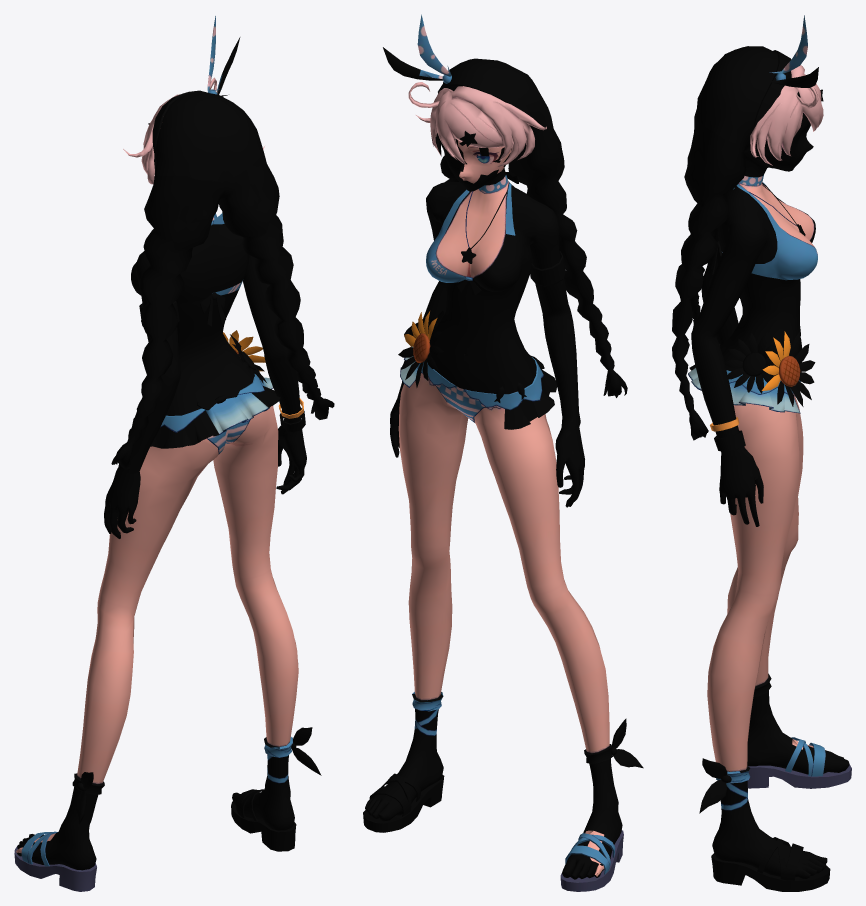
The model's file is stargirl.glb.
The picture shows the model from 3 angles, left to right: view 1: azimuth 30°, elevation 25°; view 2: azimuth 150°, elevation 25°; view 3: azimuth 270°, elevation 25°; orthographic projection. The views are drawn at different scales.
Visible parts, largest first — view 1: Object_122.001, Object_132.001, Object_124.001, Object_126.001, Object_134.001, Object_128.001; view 2: Object_122.001, Object_132.001, Object_124.001, Object_134.001, Object_130.001, Object_128.001, Object_126.001; view 3: Object_122.001, Object_132.001, Object_124.001, Object_128.001, Object_134.001, Object_126.001, Object_130.001.
Part boxes in pixels (x1,y1,x2,y2): Object_122.001: [16, 223, 306, 870]; Object_132.001: [111, 77, 334, 469]; Object_124.001: [14, 213, 321, 891]; Object_126.001: [150, 377, 280, 448]; Object_134.001: [148, 16, 240, 154]; Object_128.001: [223, 330, 303, 418]; Object_122.001: [365, 168, 622, 879]; Object_132.001: [404, 58, 627, 397]; Object_124.001: [363, 172, 643, 891]; Object_134.001: [383, 14, 530, 146]; Object_130.001: [440, 139, 526, 191]; Object_128.001: [398, 247, 476, 387]; Object_126.001: [400, 346, 557, 429]; Object_122.001: [691, 150, 849, 878]; Object_132.001: [672, 46, 823, 440]; Object_124.001: [699, 175, 851, 891]; Object_128.001: [710, 224, 815, 431]; Object_134.001: [753, 15, 823, 125]; Object_126.001: [688, 365, 800, 413]; Object_130.001: [751, 112, 813, 171].
Size of the model in its own units: 0.72 by 2.19 by 0.4193.
Materials: 3 (3 with a texture image).
